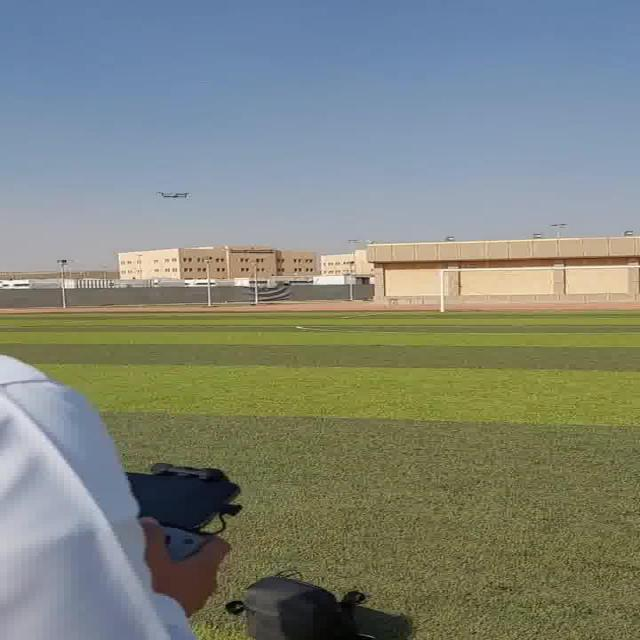drone: (142, 187, 204, 205)
